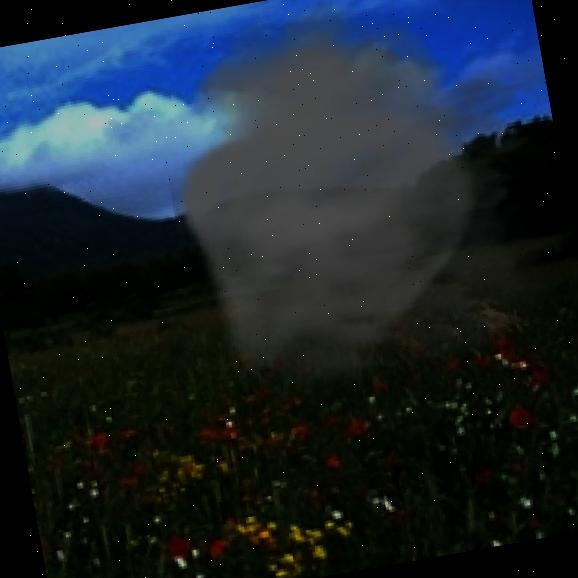smoke: (142, 0, 578, 432)
